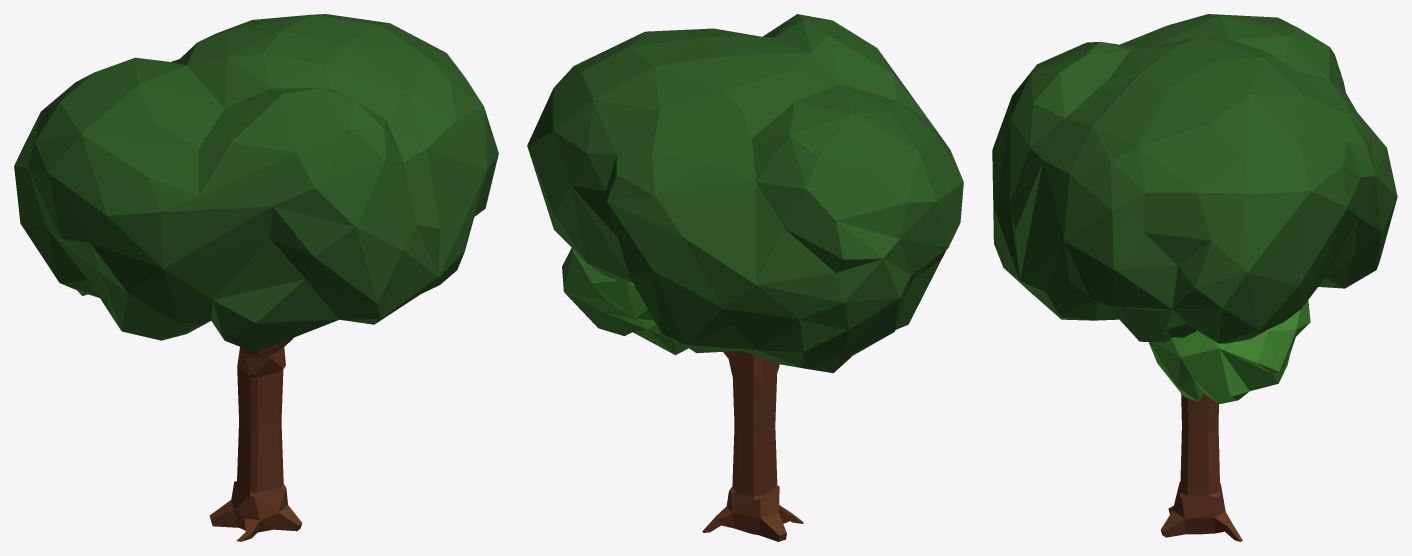
Rendered from LagreTree.fbx.
3 renders of one model, left to right at view 1: azimuth 30°, elevation 25°; view 2: azimuth 150°, elevation 25°; view 3: azimuth 270°, elevation 25°, orthographic. The views are drawn at different scales.
Parts seen in each view (by area): view 1: Large_Tree.003; view 2: Large_Tree.003; view 3: Large_Tree.003.
Boxes of the visible parts, bbox=[...] form: Large_Tree.003: bbox=[14, 14, 498, 541]; Large_Tree.003: bbox=[527, 14, 963, 541]; Large_Tree.003: bbox=[992, 14, 1397, 541].
Bounding box in the file's own units: 2870 × 3198 × 2458.
